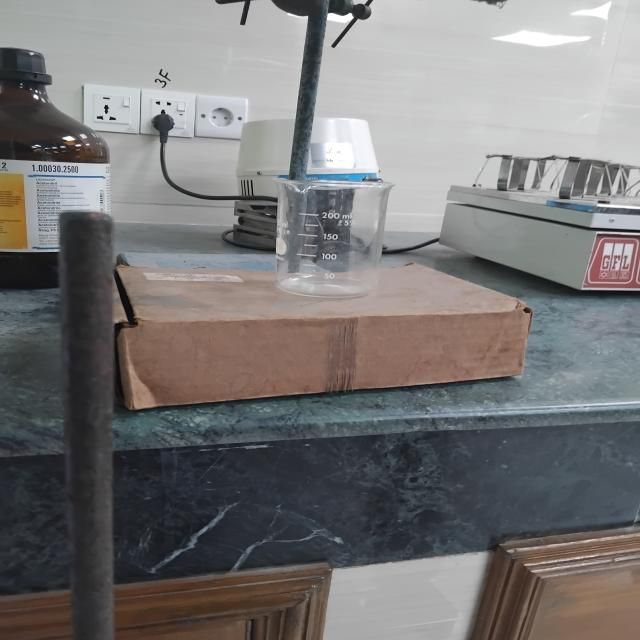Beaker: (251, 144, 408, 320)
